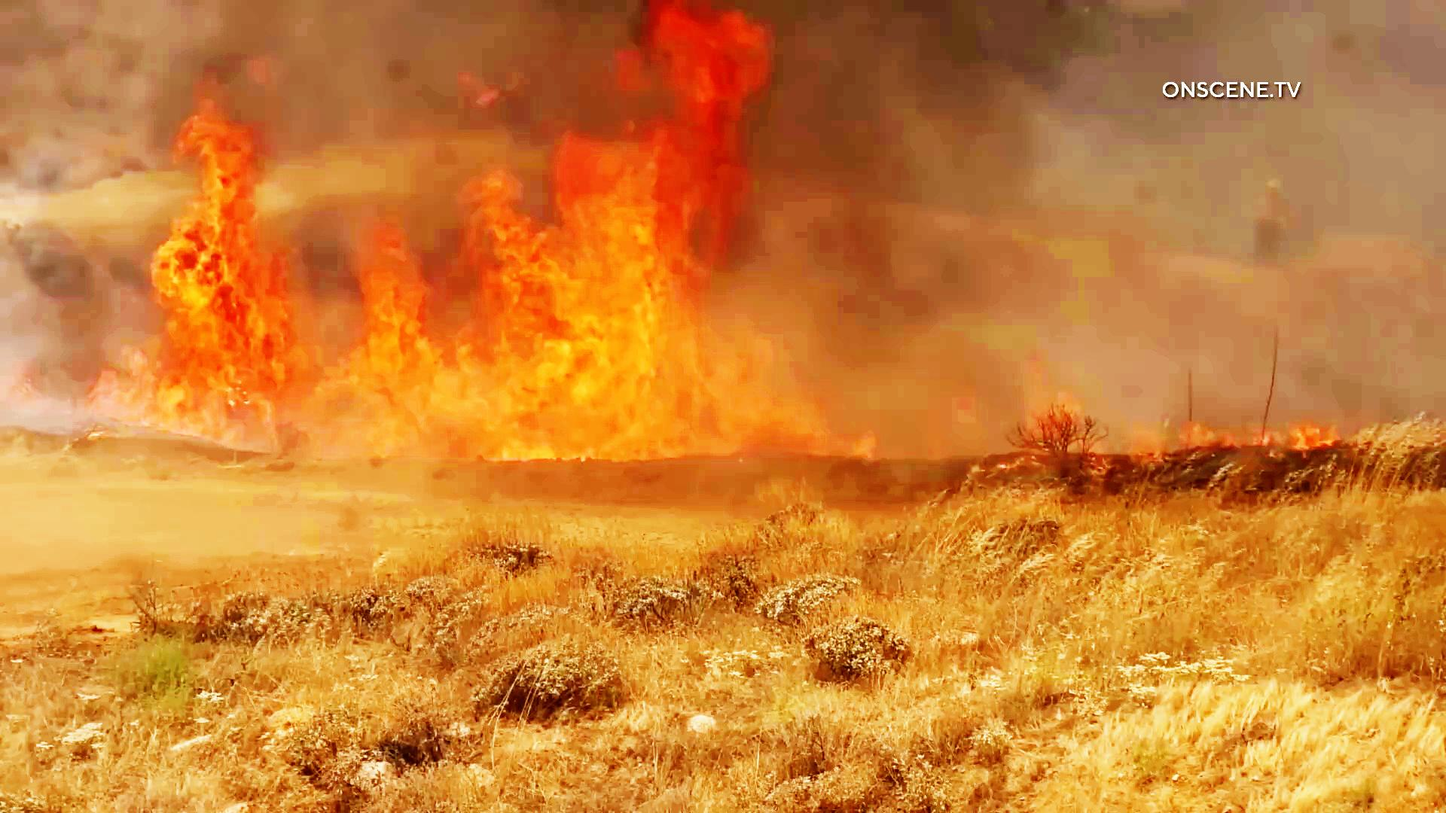fire: (60, 12, 810, 432)
